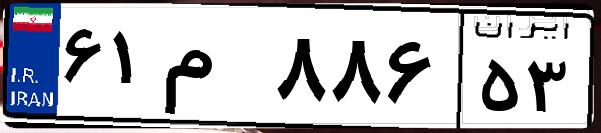1: (110, 28, 158, 98)
3: (525, 38, 570, 115)
5: (475, 38, 525, 113)
6: (385, 28, 445, 110), (57, 26, 110, 100)
8: (270, 28, 330, 110), (330, 28, 385, 110)
م: (158, 20, 270, 120)
